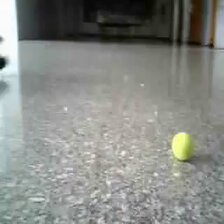tennis: (172, 132, 195, 161)
